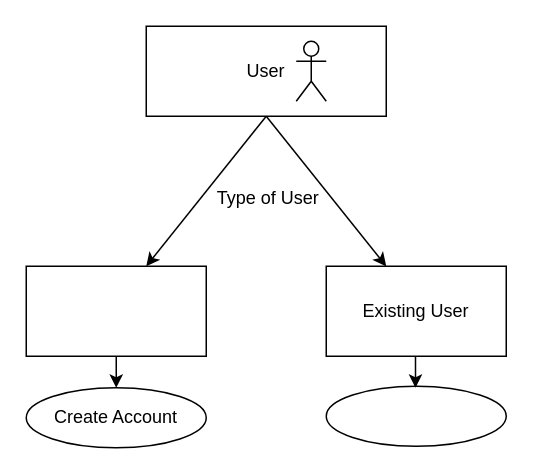
Some shapes in this 533 by 474 pixel diagram are drawn without their labels. The centre of each missing label's shape, as x and y in pixels:
"New User" goes at (115,310).
"Validate User" goes at (415,415).
